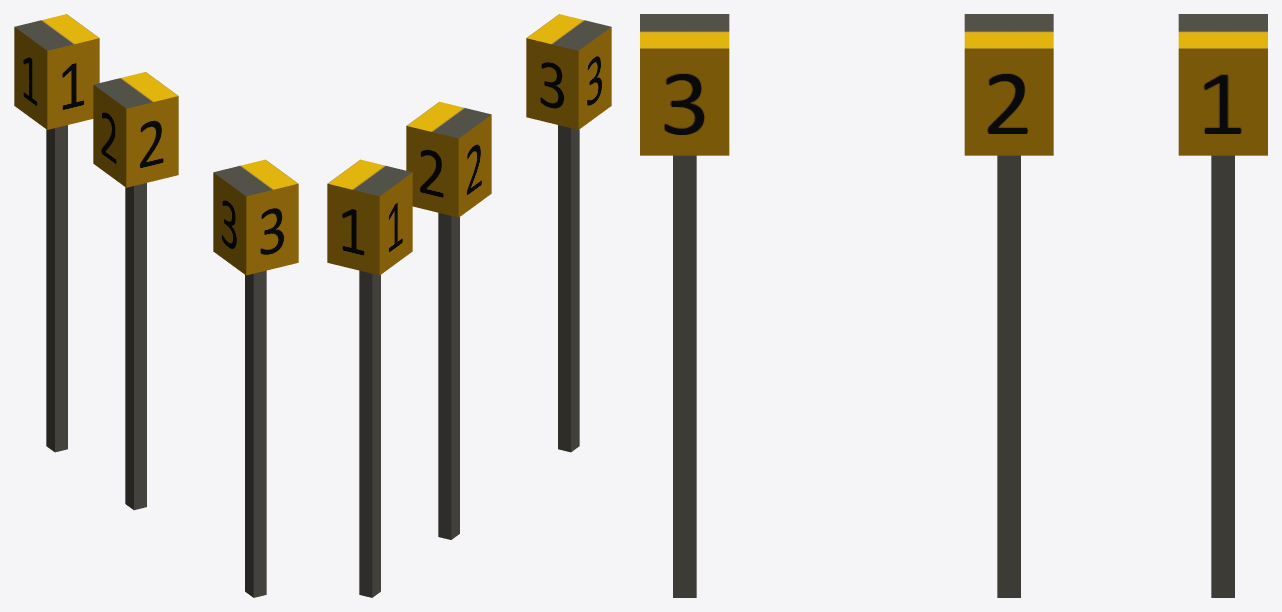
The model's file is SM_Cashier_Number.FBX.
3 renders of one model, left to right at view 1: azimuth 30°, elevation 25°; view 2: azimuth 150°, elevation 25°; view 3: azimuth 270°, elevation 25°, orthographic. The views are drawn at different scales.
Parts seen in each view (by area): view 1: SM_Cashier_03, SM_Cashier_02, SM_Cashier_01; view 2: SM_Cashier_01, SM_Cashier_03, SM_Cashier_02; view 3: SM_Cashier_01, SM_Cashier_02, SM_Cashier_03.
Boxes of the visible parts, box(x1,y1,x2,y2) form: SM_Cashier_03: box(213, 159, 298, 597); SM_Cashier_02: box(93, 72, 178, 510); SM_Cashier_01: box(14, 14, 99, 452); SM_Cashier_01: box(327, 159, 412, 597); SM_Cashier_03: box(526, 14, 611, 452); SM_Cashier_02: box(406, 101, 491, 539); SM_Cashier_01: box(1178, 14, 1267, 597); SM_Cashier_02: box(964, 14, 1053, 597); SM_Cashier_03: box(640, 14, 729, 597).
Size of the model in its own units: 15.73 by 119 by 121.
